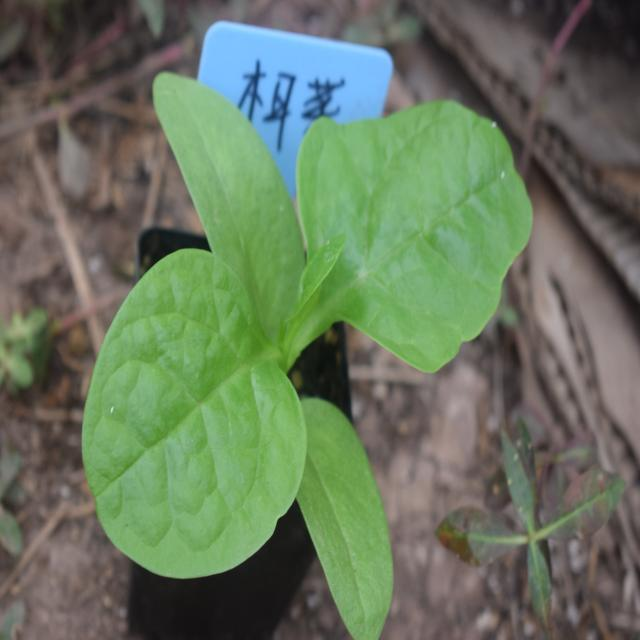Ceylon spinach: (82, 77, 532, 568)
